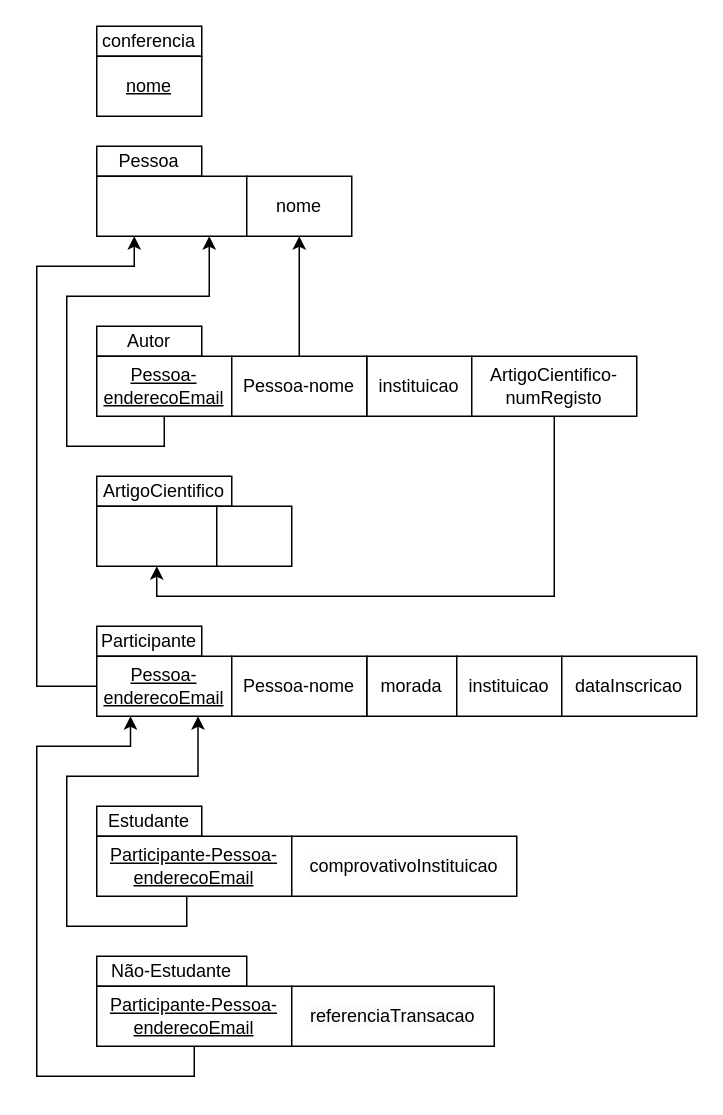
Image size: 723x1115. Some labels were removed from this diagram. The shapes that lost their labels are listed below. From the top down, each one's centre as x and y in pixels, then its label:
At point (171, 205): "enderecoEmail".
At point (156, 535): "numRegisto".
At point (253, 535): "titulo".
